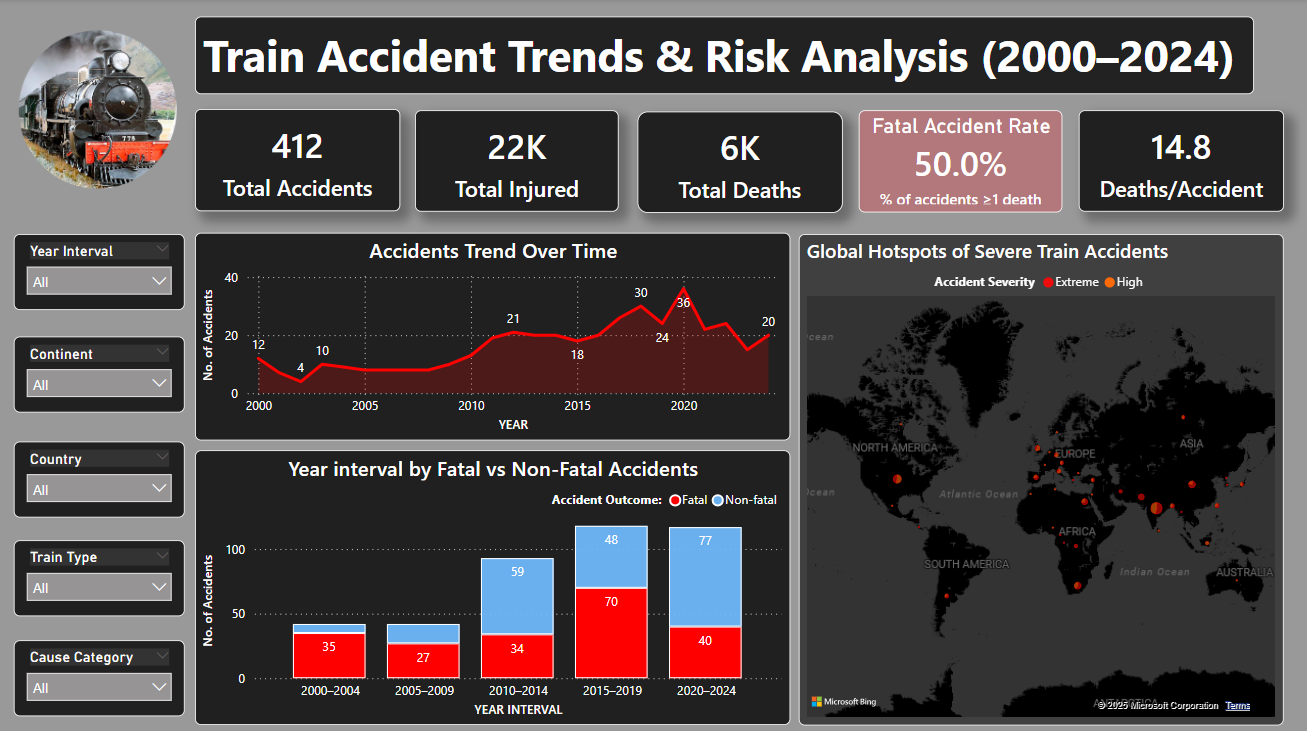

This screenshot's page, from the dashboard's own definition file:
{"tool":"powerbi","page":{"name":"Overview","canvas":[1280,720],"ordinal":0},"visuals":[{"type":"card","fields":{"Values":["CountNonNull(rail_accident_final_cleaned2.accident_id)"]},"box":[190.8,107.6,200.5,100.3],"z":0},{"type":"textbox","box":[190.8,17.1,1035.7,75.8],"z":1000},{"type":"card","fields":{"Values":["Sum(rail_accident_final_cleaned2.deaths)"]},"box":[623.6,110.1,200.5,99],"z":2000},{"type":"card","fields":{"Values":["Sum(rail_accident_final_cleaned2.injured)"]},"box":[406,108.8,199.3,99],"z":3000},{"type":"card","title":"Fatal Accident Rate","fields":{"Values":["rail_accident_final_cleaned2.Fatal Accident %"]},"box":[840.1,108.8,199.3,100.3],"z":4000},{"type":"card","fields":{"Values":["Avg(rail_accident_final_cleaned2.deaths)"]},"box":[1055.3,108.8,200.5,99],"z":5000},{"type":"image","box":[0,25.7,190.8,165.1],"z":6000},{"type":"columnChart","title":"Year interval by Fatal vs Non-Fatal Accidents","fields":{"Category":["rail_accident_final_cleaned2.year_interval"],"Y":["CountNonNull(rail_accident_final_cleaned2.accident_id)"],"Series":["rail_accident_final_cleaned2.casualty_type"]},"box":[190.7,418.5,581.8,292.3],"z":7000},{"type":"lineChart","title":"Accidents Trend Over Time","fields":{"Y":["CountNonNull(rail_accident_final_cleaned2.accident_id)"],"Category":["rail_accident_final_cleaned2.year"]},"box":[190.7,229.2,581.8,175.6],"z":8000},{"type":"slicer","fields":{"Values":["rail_accident_final_cleaned2.year_interval"]},"box":[13.5,229.9,167.5,74.6],"z":9000},{"type":"slicer","fields":{"Values":["rail_accident_final_cleaned2.continent"]},"box":[13.5,330.2,167.5,74.6],"z":10000},{"type":"slicer","fields":{"Values":["rail_accident_final_cleaned2.country"]},"box":[13.5,432.9,167.5,74.6],"z":11000},{"type":"slicer","fields":{"Values":["rail_accident_final_cleaned2.train_type"]},"box":[13.5,529.5,167.5,74.6],"z":12000},{"type":"slicer","fields":{"Values":["rail_accident_final_cleaned2.cause_category"]},"box":[13.5,627.3,167.5,74.6],"z":13000},{"type":"map","title":"Global Hotspots of Severe Train Accidents","fields":{"Category":["rail_accident_final_cleaned2.country"],"Series":["rail_accident_final_cleaned2.severity_level"],"Size":["CountNonNull(rail_accident_final_cleaned2.accident_id)"]},"box":[786.3,230.5,469.3,480.3],"z":14000}]}

Visuals, with their boxes in screenshot pixels (x1, y1, x2, y2), scaled from the page's 1280x720 canvas onto the 1307x731 screenshot:
card - CountNonNull(rail_accident_final_cleaned2.accident_id): bbox=[195, 109, 400, 211]
textbox: bbox=[195, 17, 1252, 94]
card - Sum(rail_accident_final_cleaned2.deaths): bbox=[637, 112, 841, 212]
card - Sum(rail_accident_final_cleaned2.injured): bbox=[415, 110, 618, 211]
"Fatal Accident Rate" card: bbox=[858, 110, 1061, 212]
card - Avg(rail_accident_final_cleaned2.deaths): bbox=[1078, 110, 1282, 211]
image: bbox=[0, 26, 195, 194]
"Year interval by Fatal vs Non-Fatal Accidents" columnChart: bbox=[195, 425, 789, 722]
"Accidents Trend Over Time" lineChart: bbox=[195, 233, 789, 411]
slicer - rail_accident_final_cleaned2.year_interval: bbox=[14, 233, 185, 309]
slicer - rail_accident_final_cleaned2.continent: bbox=[14, 335, 185, 411]
slicer - rail_accident_final_cleaned2.country: bbox=[14, 440, 185, 515]
slicer - rail_accident_final_cleaned2.train_type: bbox=[14, 538, 185, 613]
slicer - rail_accident_final_cleaned2.cause_category: bbox=[14, 637, 185, 713]
"Global Hotspots of Severe Train Accidents" map: bbox=[803, 234, 1282, 722]
